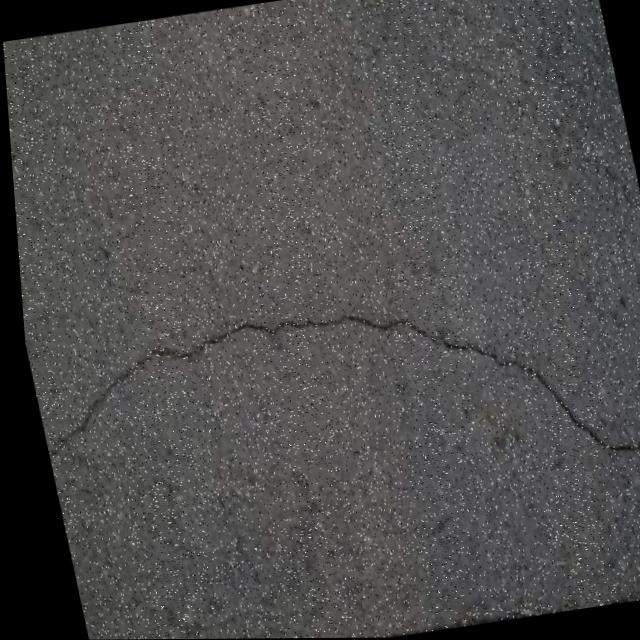Crack: (19, 250, 640, 553)
